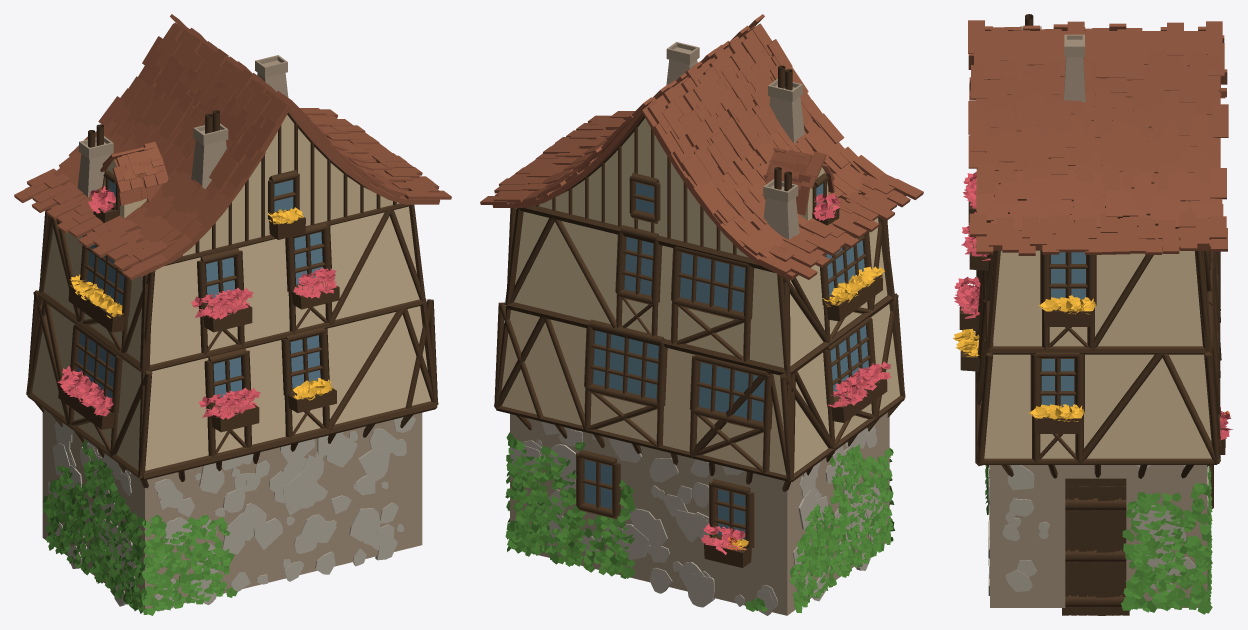
Rendered from narrow.glb.
3 renders of one model, left to right at view 1: azimuth 30°, elevation 25°; view 2: azimuth 150°, elevation 25°; view 3: azimuth 270°, elevation 25°, orthographic. The views are drawn at different scales.
Visible parts, largest first — view 1: MedievalBuilding; view 2: MedievalBuilding; view 3: MedievalBuilding.
Boxes of the visible parts, x1,y1,x2,y2 form: MedievalBuilding: [14, 14, 451, 615]; MedievalBuilding: [480, 14, 923, 615]; MedievalBuilding: [953, 14, 1232, 615].
Size of the model in its own units: 5.99 by 8.61 by 4.15.
